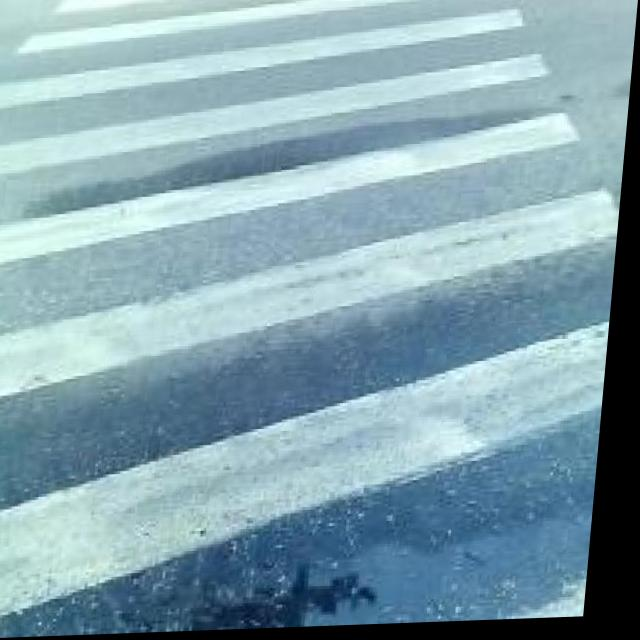zebra: (3, 1, 535, 539)
